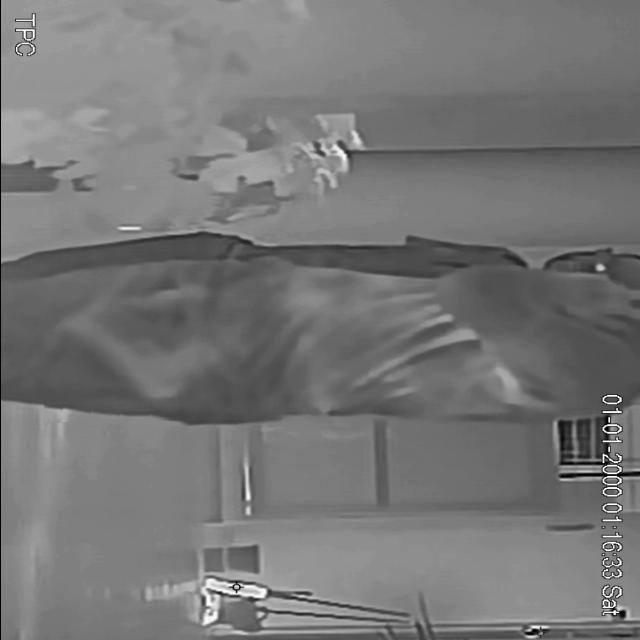Weapon: (39, 298, 226, 422)
